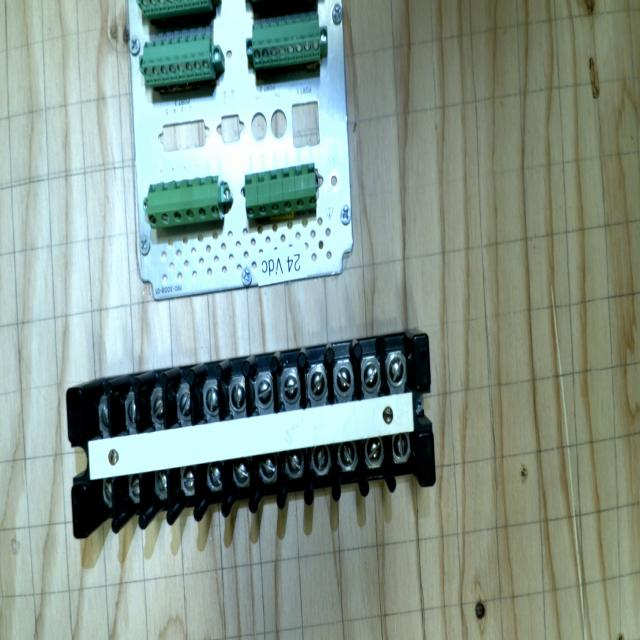Flathead_Block: (52, 335, 449, 539)
Terminal_1: (240, 163, 322, 220), (144, 176, 224, 229)
Terminal_2: (248, 11, 324, 68), (139, 34, 215, 85)
